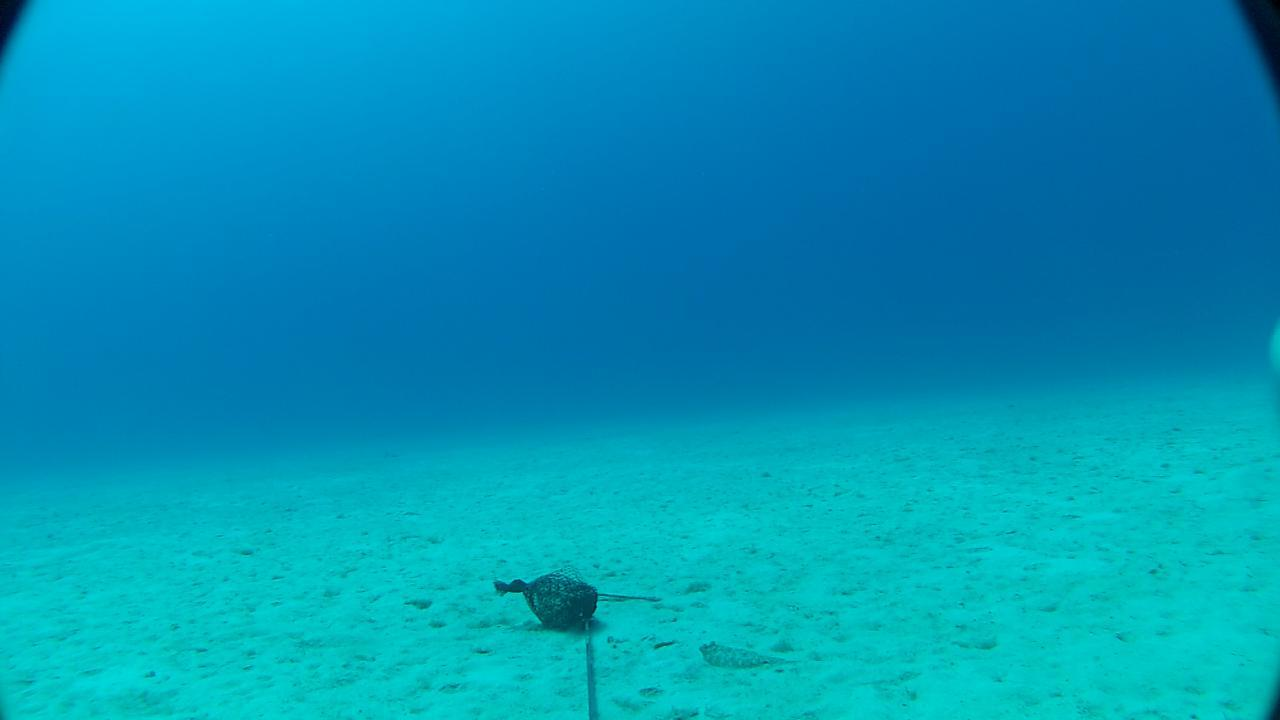bothus: (690, 634, 796, 675)
